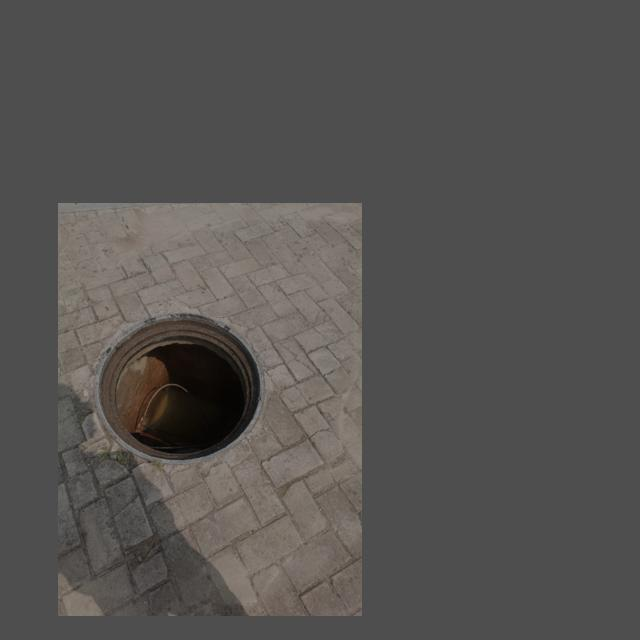lose: (87, 314, 267, 464)
